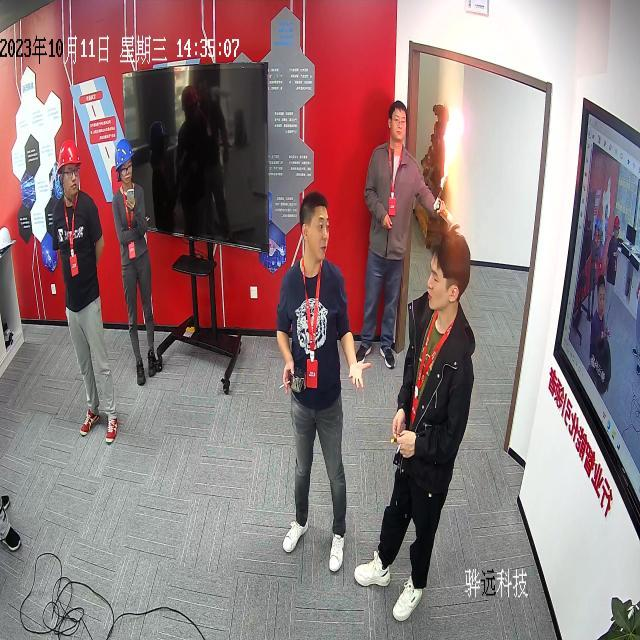Fire: (442, 108, 463, 190)
